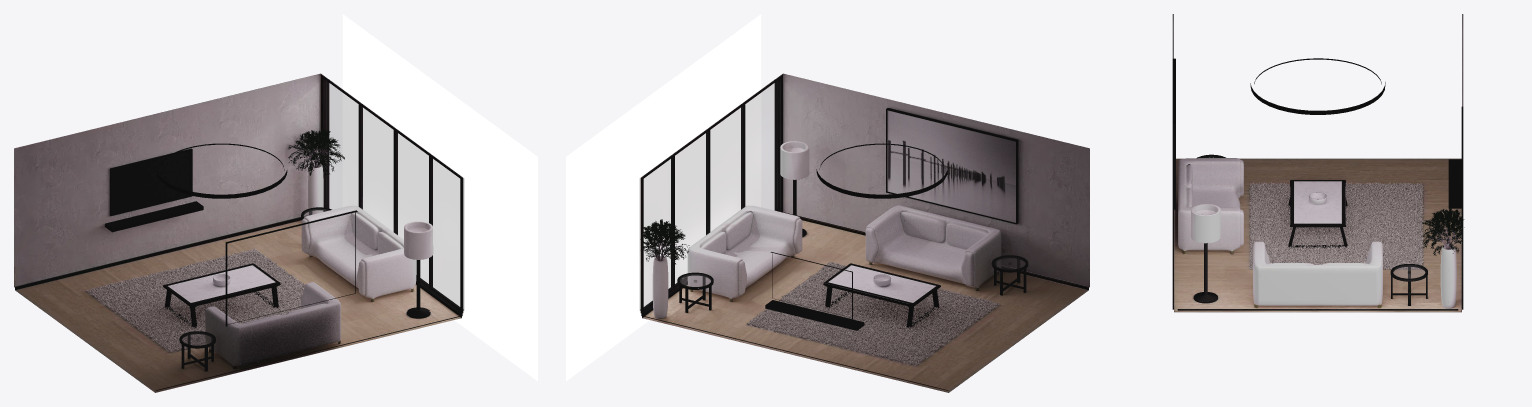
File: room.glb
3 renders of one model, left to right at view 1: azimuth 30°, elevation 25°; view 2: azimuth 150°, elevation 25°; view 3: azimuth 270°, elevation 25°, orthographic. The views are drawn at different scales.
Parts seen in each view (by area): view 1: Modern Living Room; view 2: Modern Living Room; view 3: Modern Living Room.
Boxes of the visible parts, x1=… form: Modern Living Room: x1=14, y1=14, x2=537, y2=392; Modern Living Room: x1=566, y1=14, x2=1089, y2=392; Modern Living Room: x1=1172, y1=14, x2=1464, y2=312.
Bounding box in the file's own units: 6.65 × 4.02 × 6.32.
Materials: 17 (16 with a texture image).
